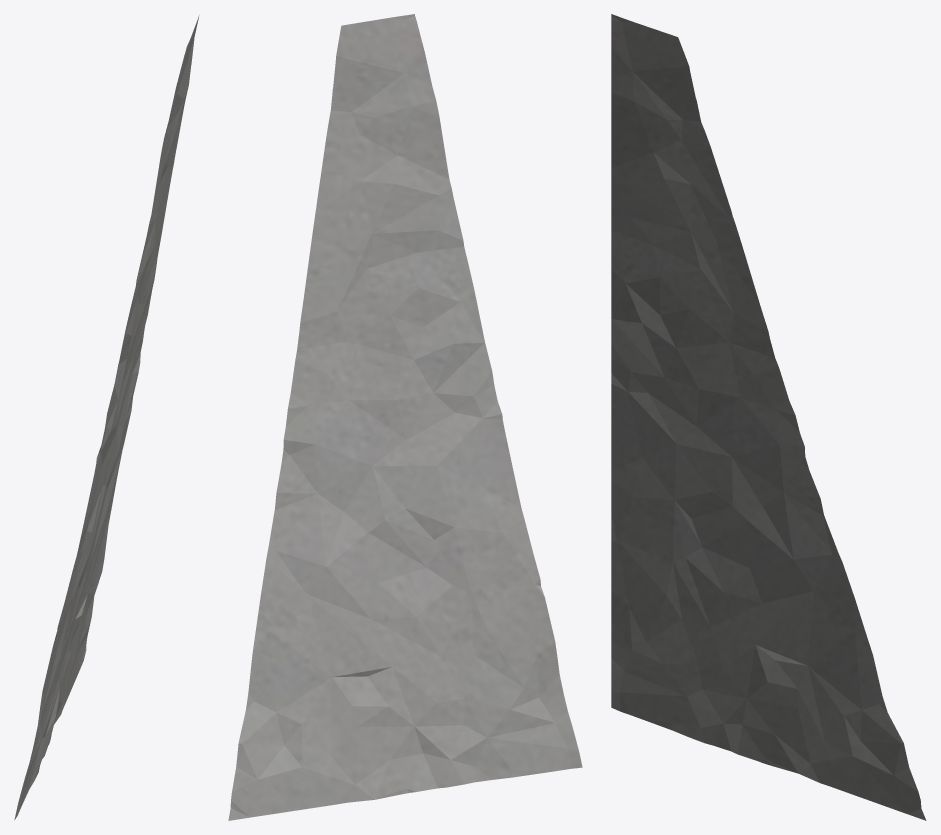
3 views of the same model, side by side, from view 1: azimuth 30°, elevation 25°; view 2: azimuth 150°, elevation 25°; view 3: azimuth 270°, elevation 25° (orthographic). The views are drawn at different scales.
Bounding box in the file's own units: 0.2595 × 0.8373 × 0.3051.
1 material, 1 textured.
